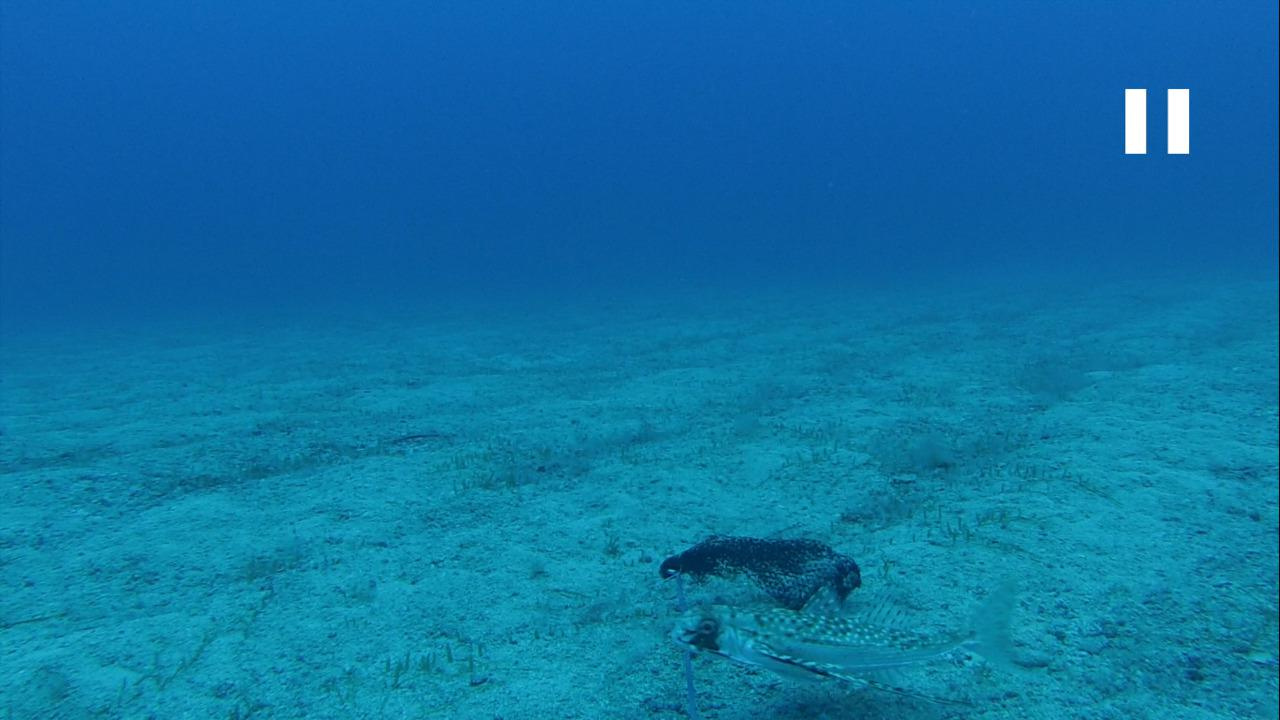dactylopterus: (657, 582, 1018, 706)
